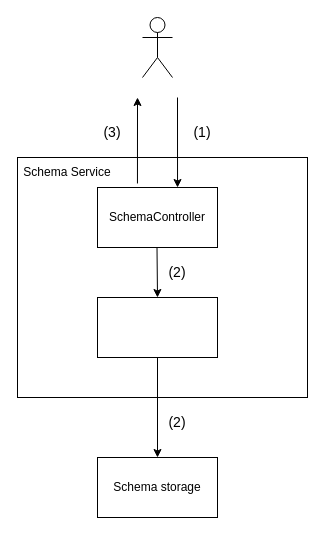
Image size: 325x535. Some labels were removed from this diagram. The shapes that lost their labels are listed below. From the top down, each one's centre as x and y in pixels, then its label:
At point (157, 47): "User".
At point (157, 327): "SchemaRepository".
